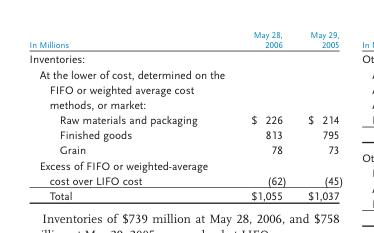table: (28, 28, 342, 202)
table column: (28, 28, 228, 202), (228, 28, 296, 202), (296, 28, 342, 202)
table column header: (28, 28, 342, 50)
table projected row header: (28, 66, 342, 111), (28, 50, 342, 66)
table row: (28, 66, 342, 111), (28, 157, 342, 187), (28, 28, 342, 50), (28, 50, 342, 66), (28, 126, 342, 142), (28, 111, 342, 126), (28, 142, 342, 157), (28, 187, 342, 202)
